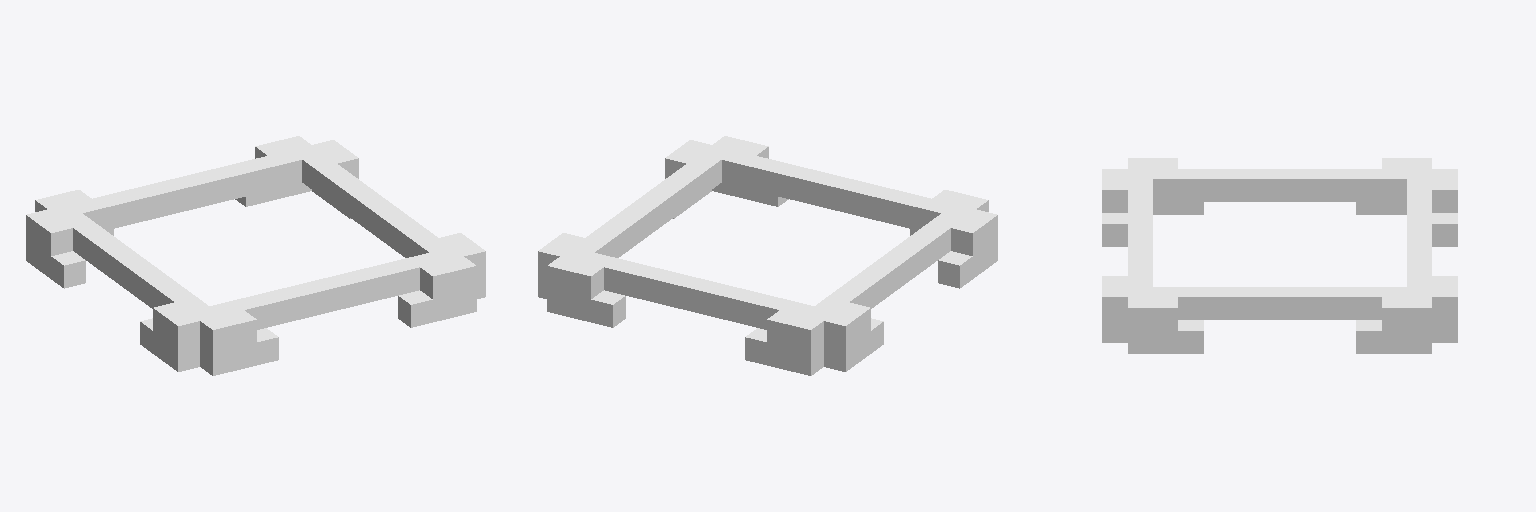
File: glass_yp.obj
3 renders of one model, left to right at view 1: azimuth 30°, elevation 25°; view 2: azimuth 150°, elevation 25°; view 3: azimuth 270°, elevation 25°, orthographic.
Size of the model in its own units: 14 by 2 by 14.